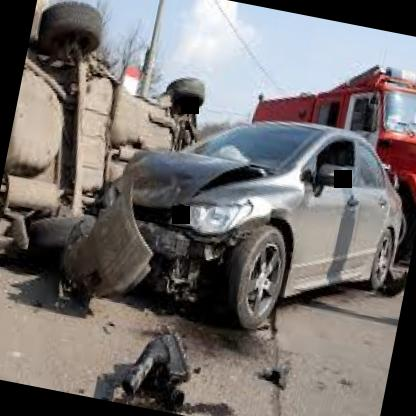accident: (0, 0, 416, 358)
